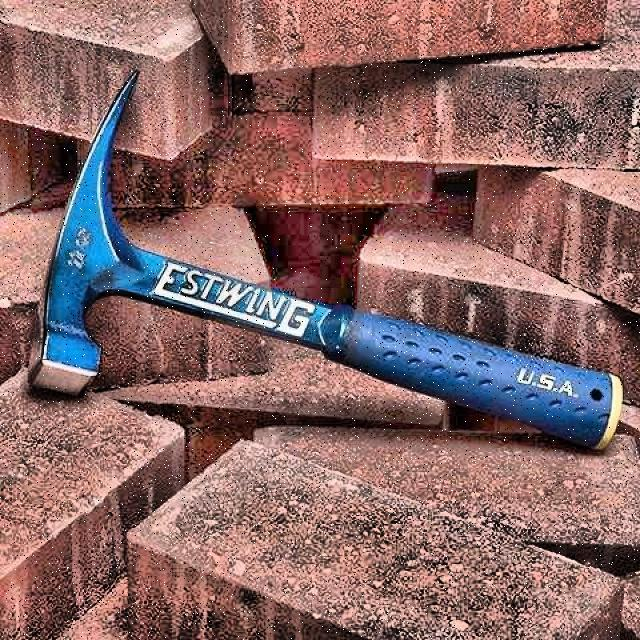hammer: (29, 65, 623, 473)
